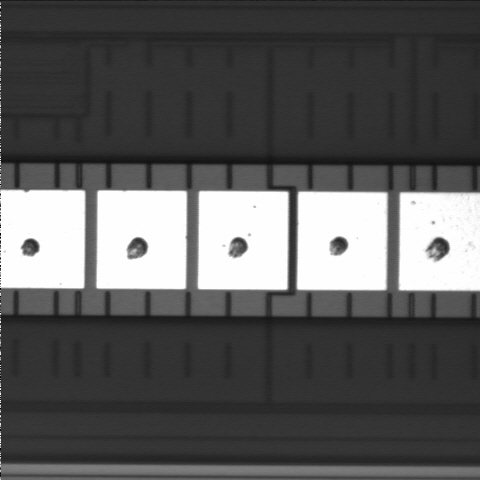pad: (96, 191, 187, 289), (198, 191, 288, 290), (297, 192, 387, 290)
